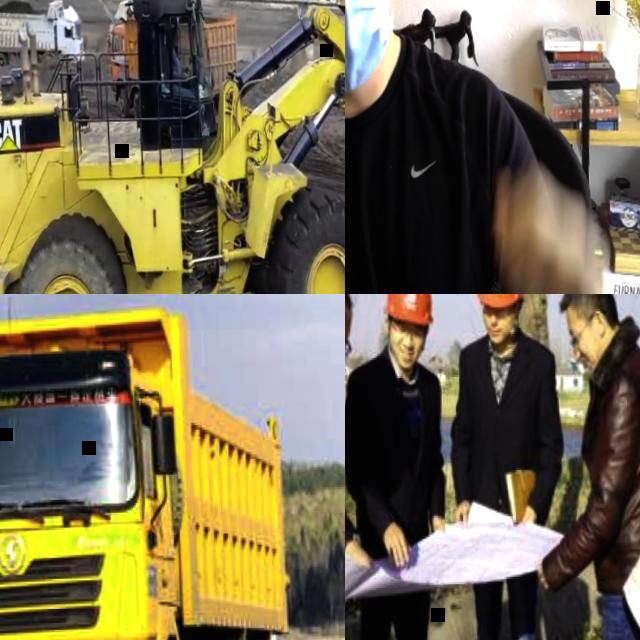Hardhat: (381, 294, 435, 327), (475, 294, 526, 308)
Mask: (345, 0, 403, 95)
NO-Hardhat: (557, 294, 610, 307), (170, 25, 178, 35)
NO-Mask: (580, 329, 605, 372), (390, 340, 419, 372), (486, 320, 513, 345), (172, 38, 179, 47)
NO-Safety Vest: (345, 35, 505, 294), (465, 344, 549, 512), (361, 363, 438, 541), (586, 359, 640, 580), (172, 49, 182, 77)
Person: (345, 0, 640, 294), (440, 294, 575, 640), (527, 294, 640, 640), (345, 294, 455, 640), (169, 23, 195, 93)
vehicle: (0, 294, 298, 640), (0, 0, 345, 294), (103, 0, 244, 119), (0, 0, 85, 72)
